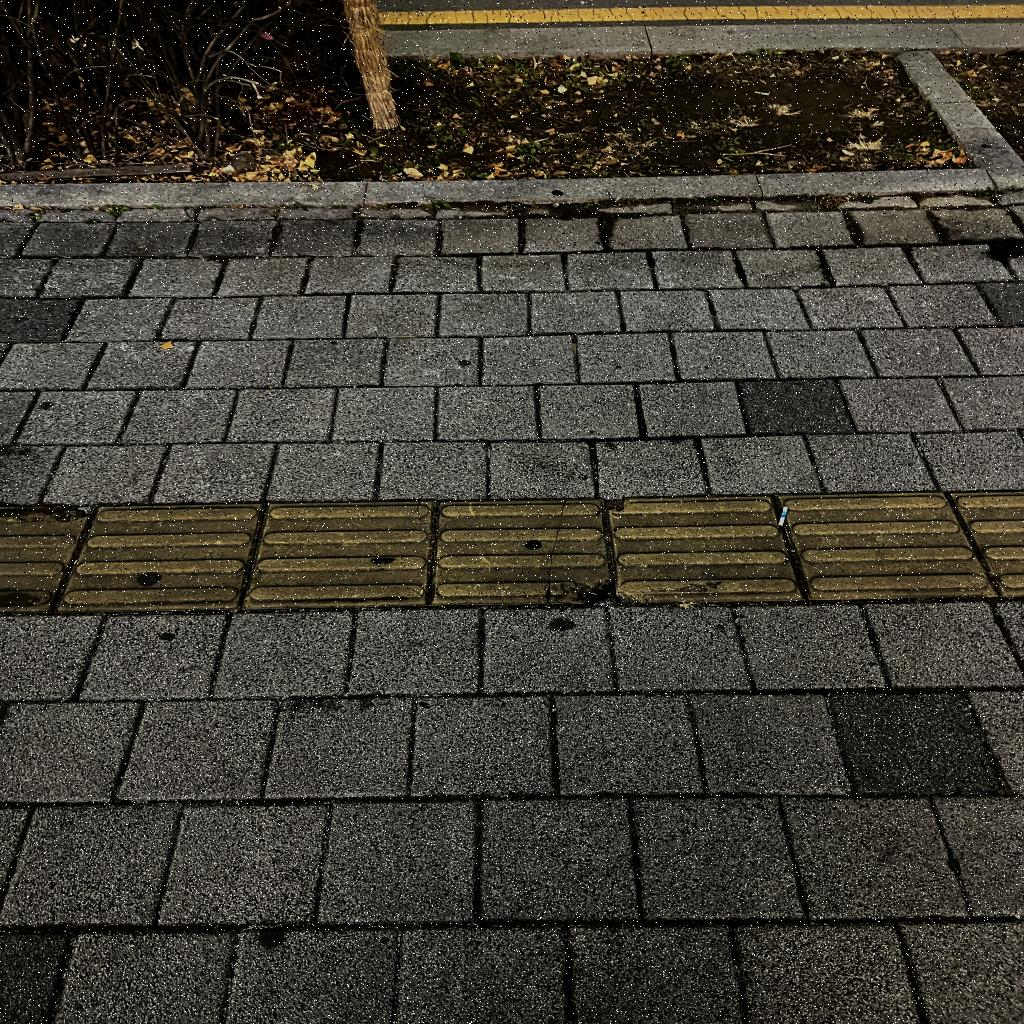Straight block broken: (606, 494, 803, 605), (432, 499, 613, 605)
Straight block normal: (780, 491, 996, 599), (56, 504, 265, 611), (242, 499, 437, 608)
